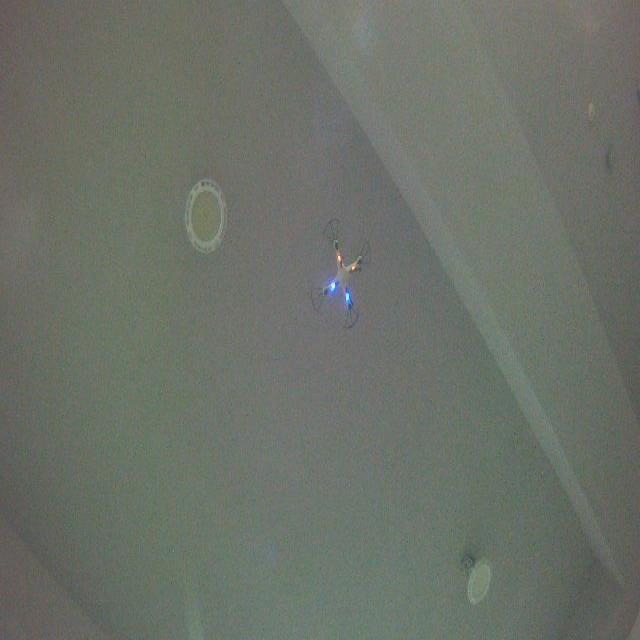drone: (309, 216, 373, 334)
